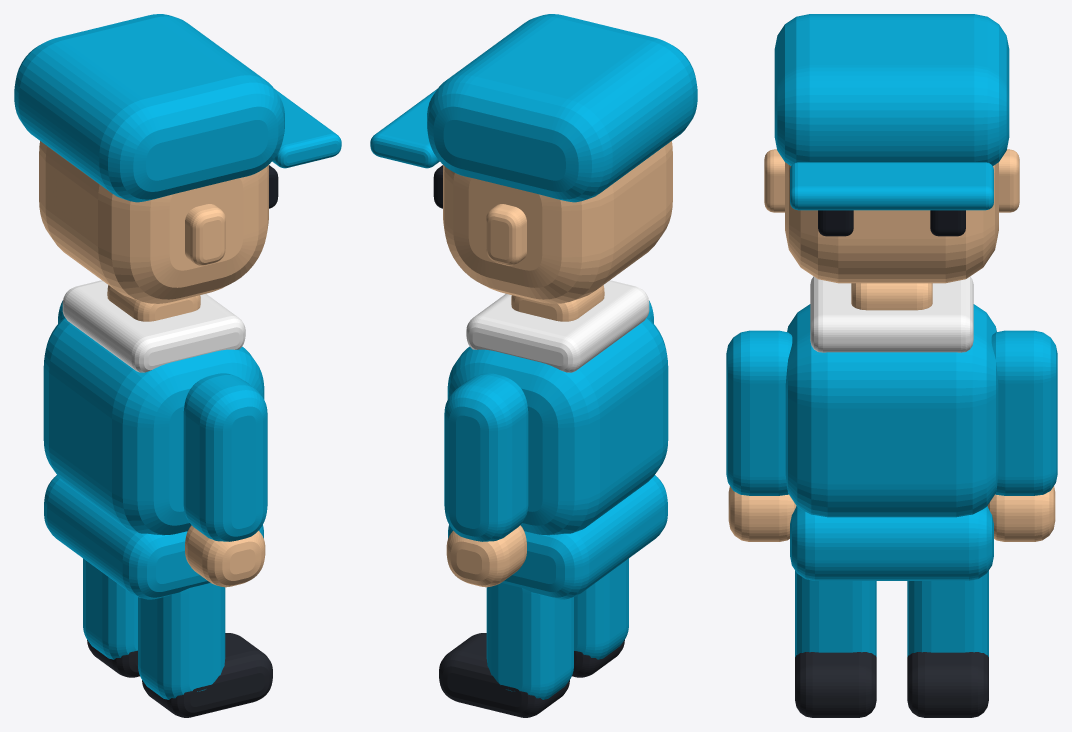
The model's file is passenger.glb.
3 views of the same model, side by side, from view 1: azimuth 30°, elevation 25°; view 2: azimuth 150°, elevation 25°; view 3: azimuth 270°, elevation 25° (orthographic). The views are drawn at different scales.
Parts seen in each view (by area): view 1: cap, torso, head, arm, leg (×2), hips, collar, shoe (×2), hand, cap_brim, ear, neck; view 2: cap, torso, head, arm, leg (×2), hips, collar, shoe (×2), hand, cap_brim, ear, neck; view 3: torso, cap, arm (×2), head, hips, leg (×2), shoe (×2), cap_brim, collar, hand (×2), ear (×2), neck (+1 smaller).
Part boxes in pixels (x1,y1,x2,y2): cap: (14,14,284,202); torso: (43,317,264,535); head: (39,141,268,303); arm: (183,373,267,541); leg (×2): (83,558,225,699); hips: (44,475,263,599); collar: (62,280,245,372); shoe (×2): (87,633,272,717); hand: (185,525,265,587); cap_brim: (272,88,341,168); ear: (185,204,225,265); neck: (107,285,200,321); cap: (427,14,697,202); torso: (447,317,668,535); head: (443,141,672,303); arm: (444,373,528,541); leg (×2): (486,558,628,699); hips: (448,475,667,599); collar: (466,280,649,372); shoe (×2): (439,633,624,717); hand: (446,525,526,587); cap_brim: (370,88,439,168); ear: (486,204,526,265); neck: (511,285,604,321); torso: (785,304,998,517); cap: (774,14,1009,165); arm (×2): (726,330,1057,495); head: (785,162,998,283); hips: (790,506,993,580); leg (×2): (795,570,988,656); shoe (×2): (795,652,988,717); cap_brim: (790,162,993,210); collar: (810,276,973,352); hand (×2): (728,486,1055,541); ear (×2): (764,149,1019,212); neck: (851,283,932,310).
Size of the model in its own units: 0.545 by 1.39 by 0.65.
